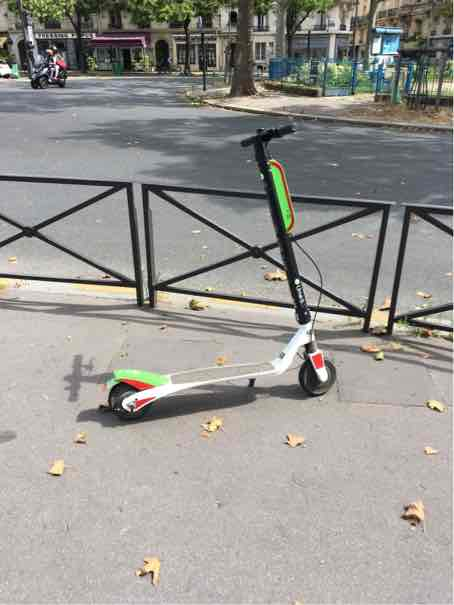scooter: (97, 109, 343, 431)
